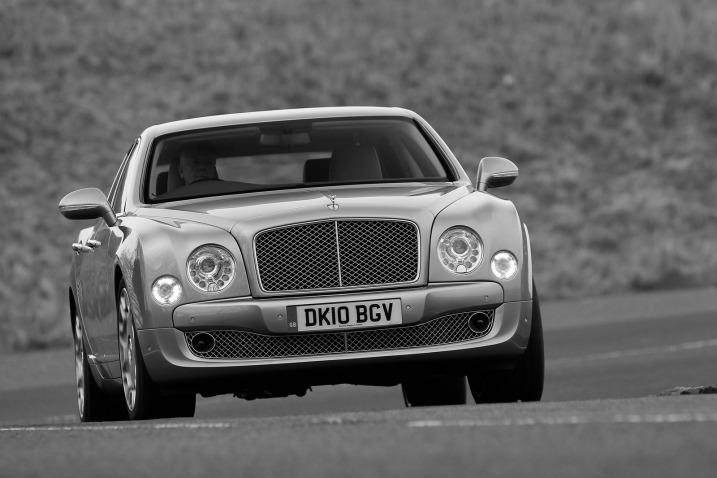car: (61, 103, 546, 425)
